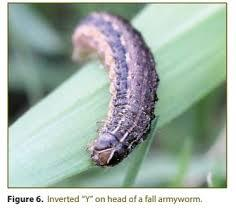fallarmy_worm: (64, 7, 162, 170)
